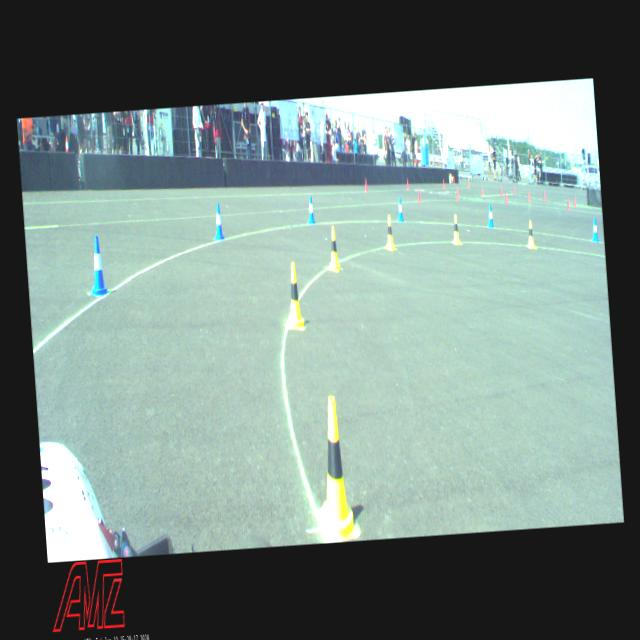blue_cone: (85, 234, 109, 296), (211, 202, 224, 240), (306, 196, 315, 224), (590, 218, 599, 242), (396, 197, 404, 222), (486, 205, 494, 228)
unknown_cone: (416, 186, 421, 202), (363, 178, 368, 192), (572, 195, 576, 208), (566, 197, 570, 210), (406, 178, 410, 190)
yellow_cone: (312, 396, 360, 542), (282, 261, 304, 331), (325, 226, 340, 272), (382, 214, 395, 250), (524, 219, 536, 249), (450, 214, 461, 245)
